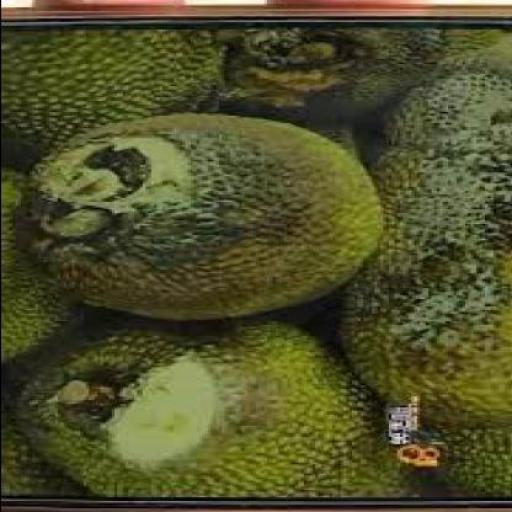biodegradable: (14, 116, 388, 325), (20, 322, 424, 498), (336, 53, 511, 433), (2, 30, 229, 164), (226, 31, 511, 129), (3, 411, 91, 497), (416, 427, 511, 500)
